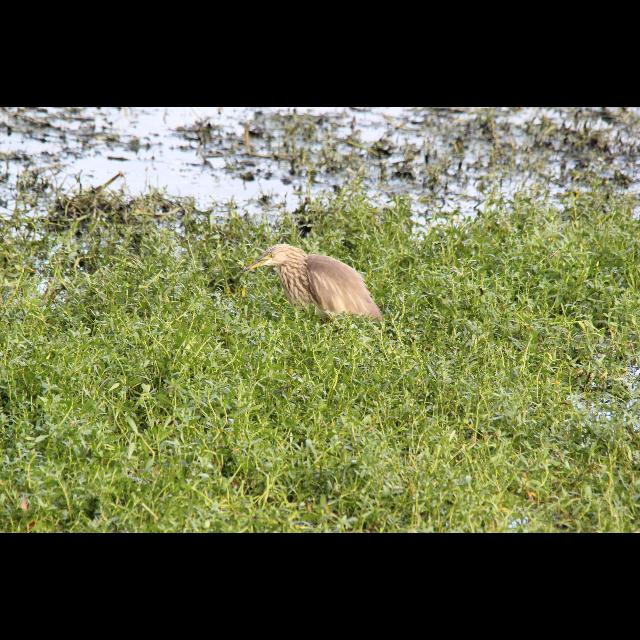heron: (238, 242, 384, 331)
